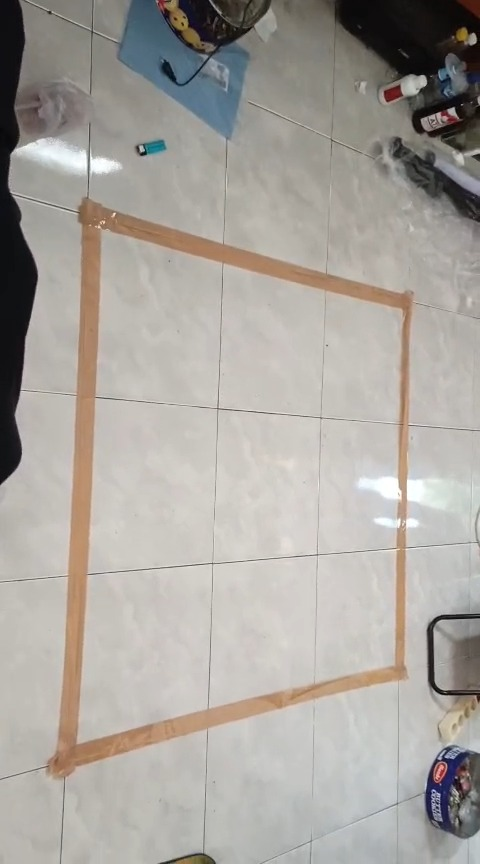floor marking: (48, 199, 411, 776)
